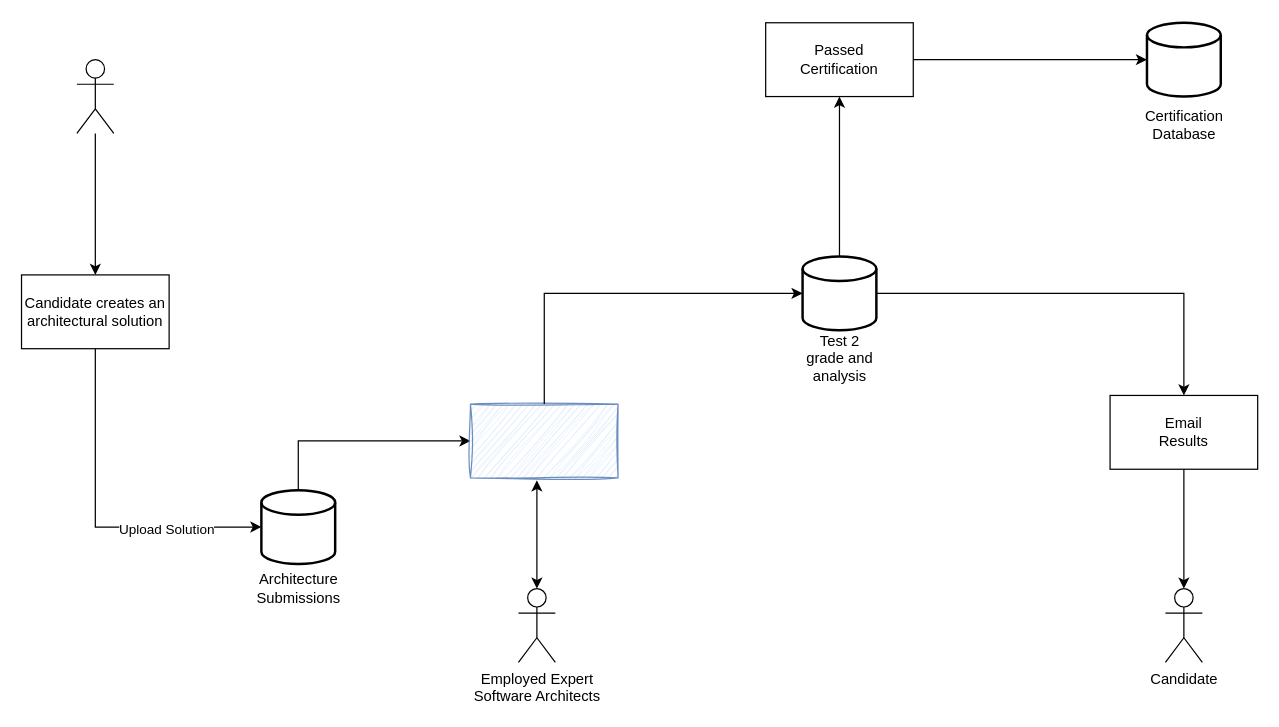
The diagram is 1279 pixels wide and 727 high, and some of its shapes have lost their labels. Here are the shapes that lost their labels. From the top down, the centre of each, then its label:
At (x=95, y=95): "Candidate Test 2 (Architecture solution)".
At (x=543, y=440): "AI Grading".
